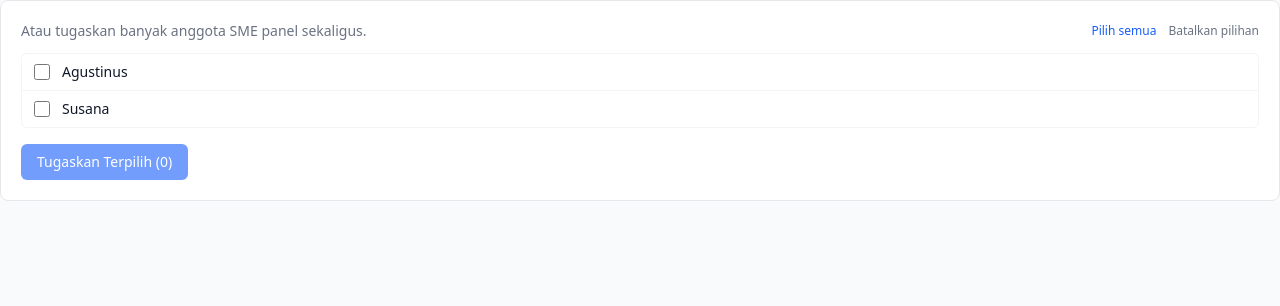
Test case: AssignRespondenBanyak (OPM) › menampilkan ringkasan skipped dengan label Indonesia
The image size is (1280, 306).
Step 1. Click the checkbox labelled "Agustinus" → click(42, 72), box x1=34 y1=64 x2=50 y2=80
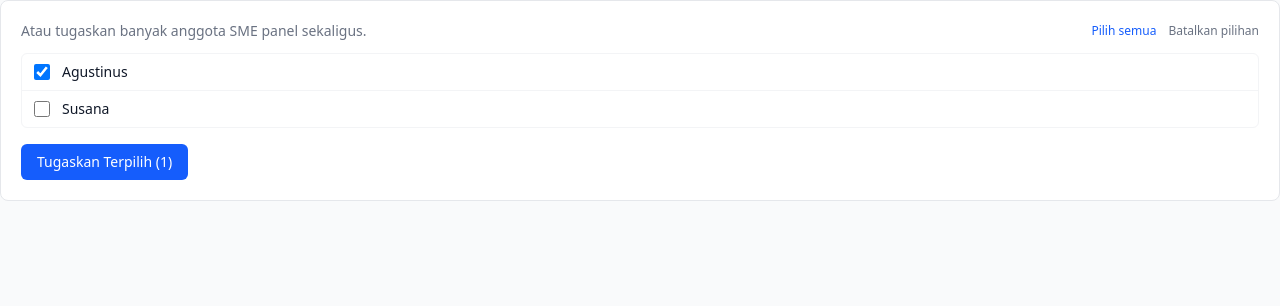
Step 2. Click the button "Tugaskan Terpilih (1)" → click(105, 162), box x1=21 y1=144 x2=188 y2=180
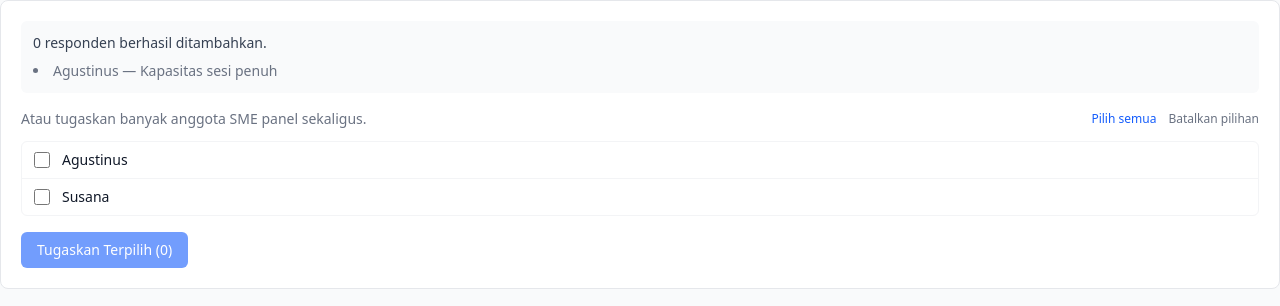
Check: the list item "Agustinus — Kapasitas sesi penuh" is shown, box x1=53 y1=61 x2=278 y2=80
